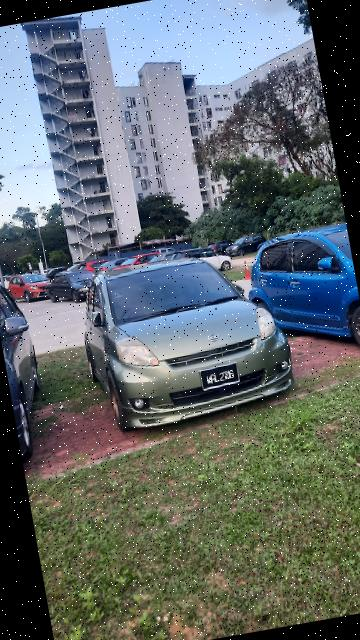License_Plate: (196, 362, 243, 393)
car: (71, 238, 305, 440)
